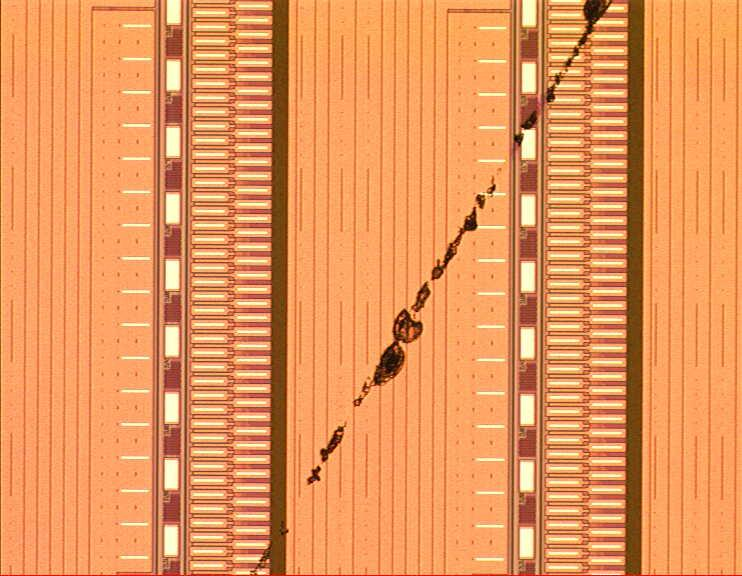SCRATCH: (238, 1, 622, 576)
